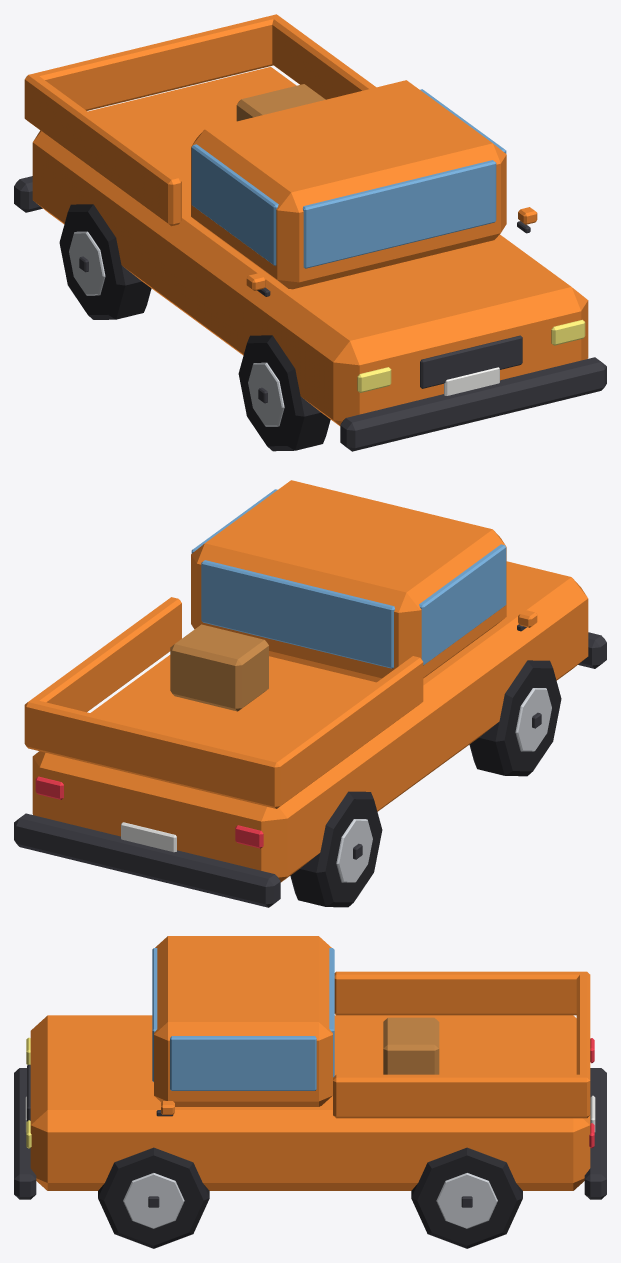
File: PickupTruck.fbx
3 renders of one model, top to bottom at view 1: azimuth 30°, elevation 25°; view 2: azimuth 150°, elevation 25°; view 3: azimuth 270°, elevation 25°, orthographic. The views are drawn at different scales.
Parts seen in each view (by area): view 1: PickupTruck, PickupTruck_WheelBR, PickupTruck_WheelFR; view 2: PickupTruck, PickupTruck_WheelBR, PickupTruck_WheelFR; view 3: PickupTruck, PickupTruck_WheelBL, PickupTruck_WheelFL.
Boxes of the visible parts, left/top/right/bottom form: PickupTruck: left=14, top=14, right=606, bottom=451; PickupTruck_WheelBR: left=59, top=204, right=151, bottom=319; PickupTruck_WheelFR: left=238, top=335, right=330, bottom=451; PickupTruck: left=14, top=480, right=606, bottom=907; PickupTruck_WheelBR: left=290, top=791, right=382, bottom=907; PickupTruck_WheelFR: left=469, top=660, right=561, bottom=776; PickupTruck: left=14, top=936, right=606, bottom=1199; PickupTruck_WheelBL: left=411, top=1147, right=522, bottom=1248; PickupTruck_WheelFL: left=98, top=1147, right=209, bottom=1248.
Bounding box in the file's own units: 5.15 × 4.25 × 10.6.
1 material, 1 textured.
